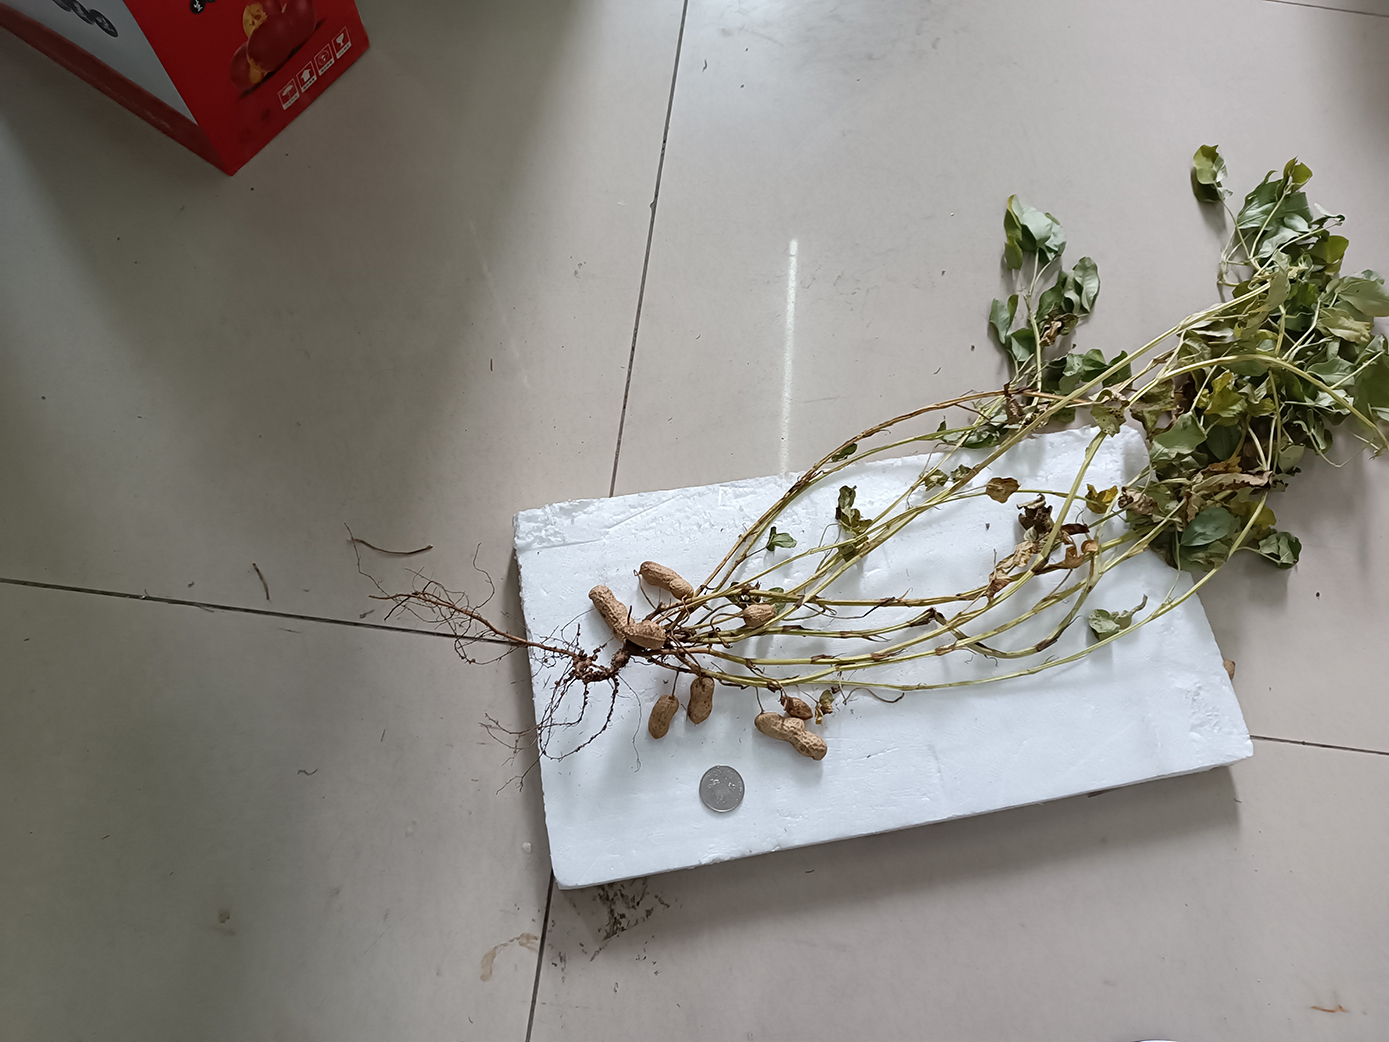h: (754, 713, 827, 760), (589, 584, 627, 640), (639, 560, 694, 599), (646, 695, 678, 738), (686, 678, 714, 722), (624, 620, 665, 646), (742, 602, 774, 628)
l: (782, 694, 814, 719)
